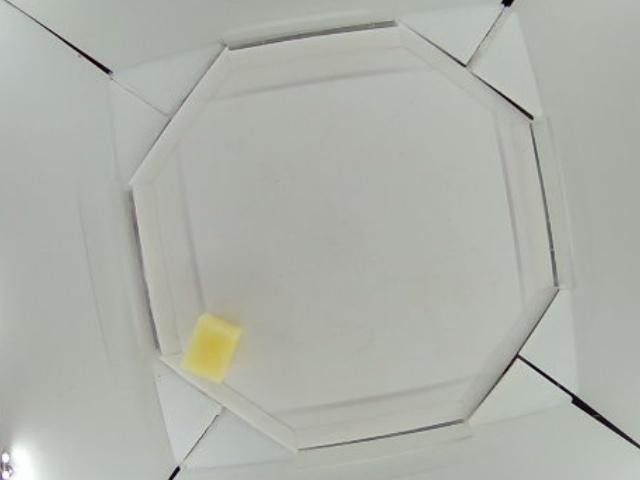Potato: (179, 315, 243, 386)
